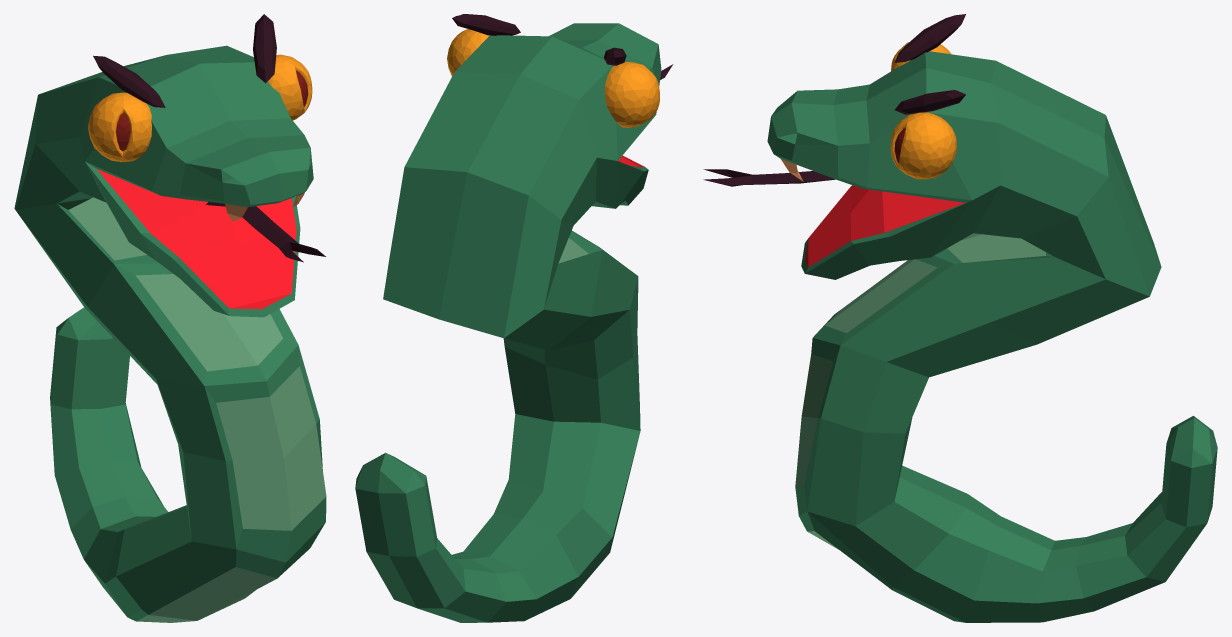
Rendered from Snake_Angry_000007.obj.
The picture shows the model from 3 angles, left to right: view 1: azimuth 30°, elevation 25°; view 2: azimuth 150°, elevation 25°; view 3: azimuth 270°, elevation 25°; orthographic projection. The views are drawn at different scales.
Visible parts, largest first — view 1: Snake_Cylinder; view 2: Snake_Cylinder; view 3: Snake_Cylinder.
Boxes of the visible parts, box(x1,y1,x2,y2) form: Snake_Cylinder: box(14, 14, 326, 622); Snake_Cylinder: box(355, 14, 673, 622); Snake_Cylinder: box(703, 14, 1217, 622).
Size of the model in its own units: 1.05 by 2.73 by 2.26.
